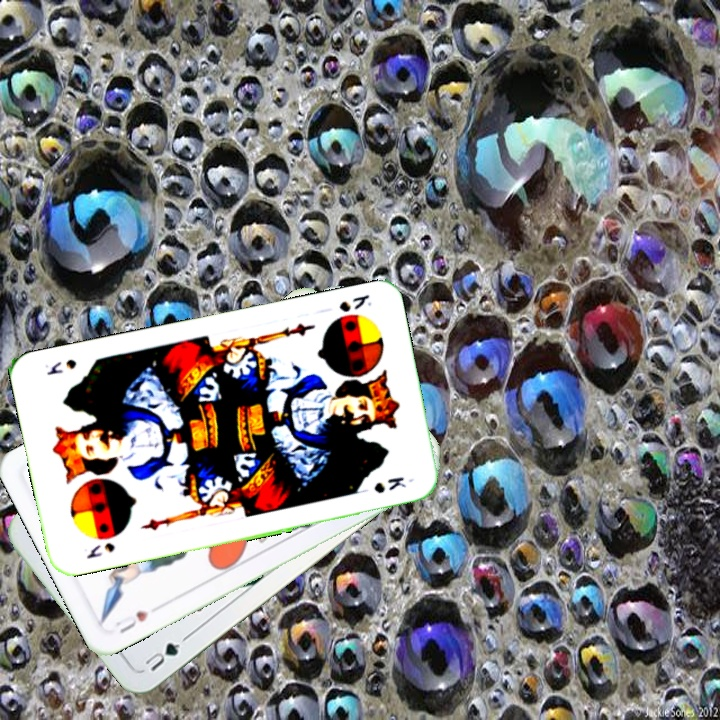GU: (140, 638, 183, 674)
HU: (111, 606, 152, 637)
SK: (335, 290, 375, 315), (82, 538, 118, 562)
